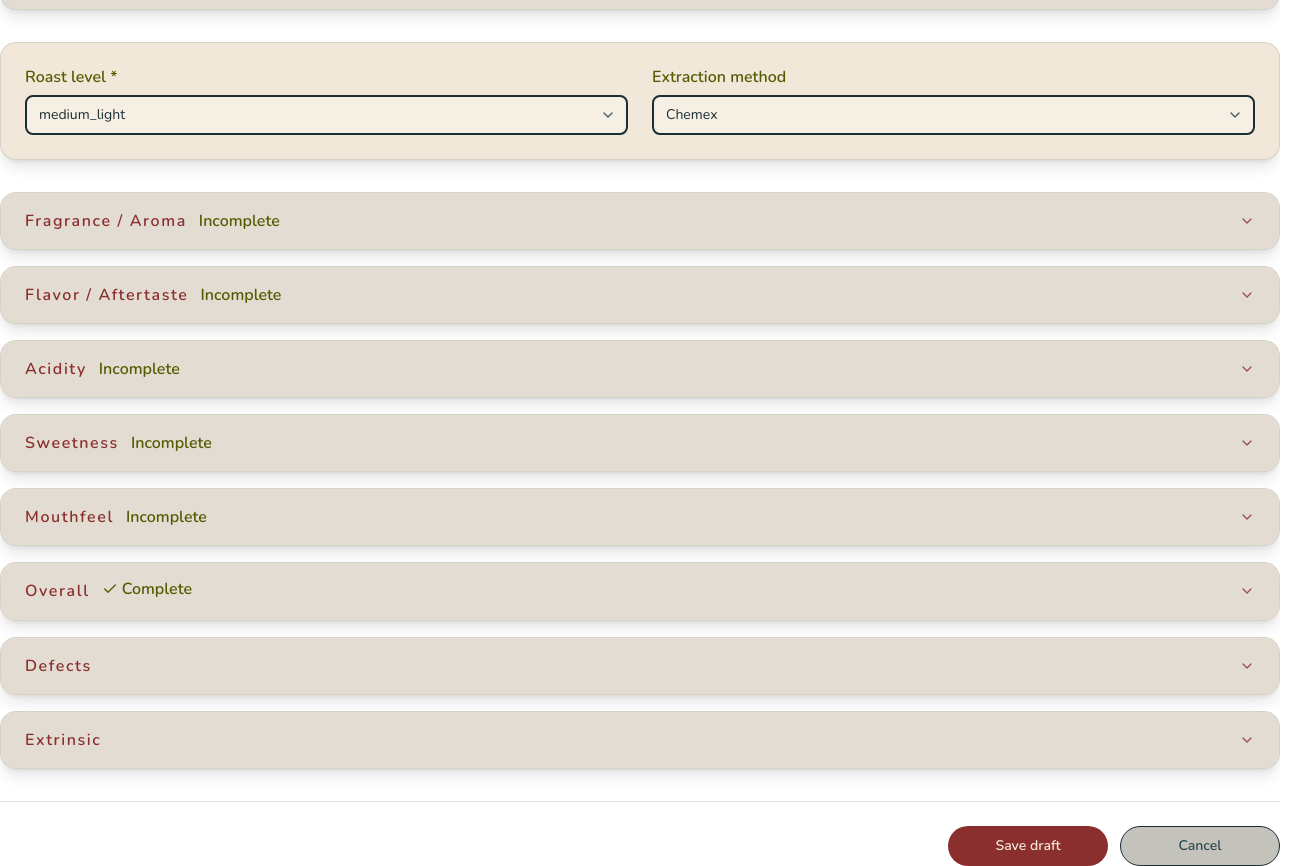
Test: EvaluationForm: saving a draft (design.md D4; tasks 6.1) › shows the message of a null beside the actions and sends nothing again
This screenshot has width=1292, height=866.
(page scrolled)
Click the button "Save draft" at (1028, 846), box [948,826,1108,865]
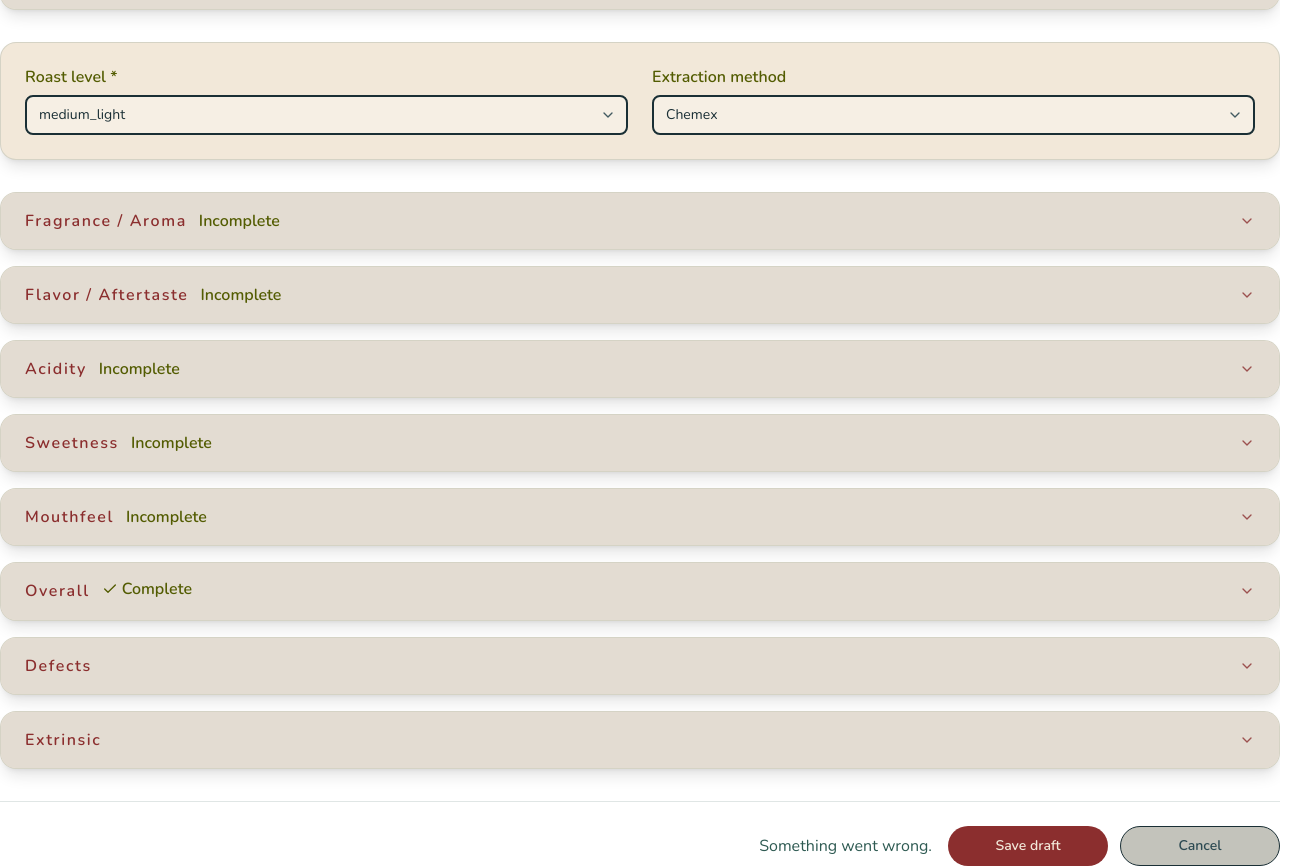
Expected: the message reads "Something went wrong.", [759,834,932,856]
